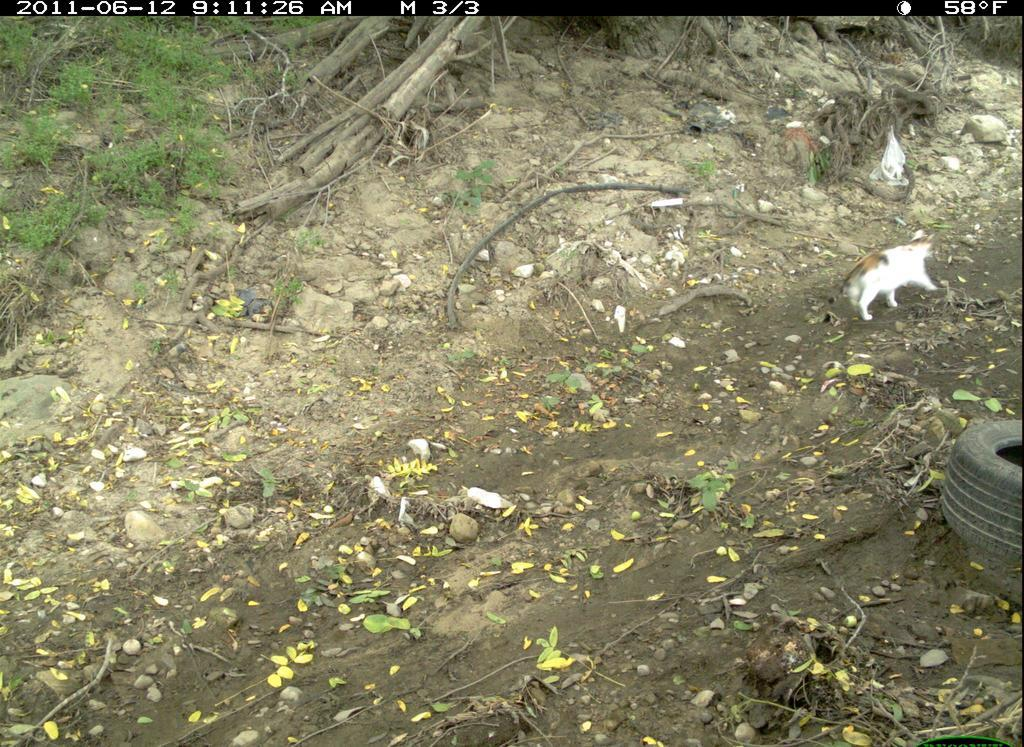cat: (817, 221, 950, 327)
